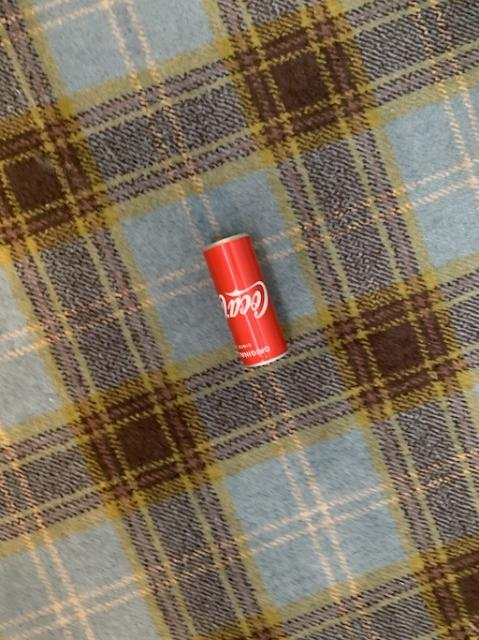metal: (202, 233, 286, 365)
